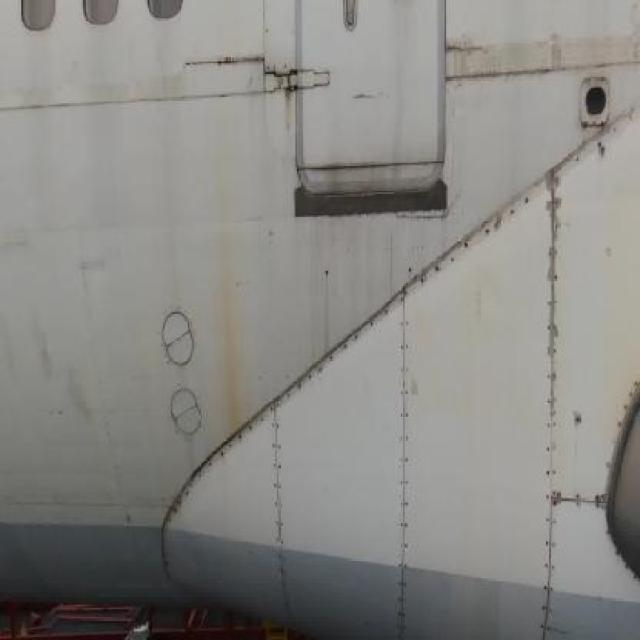Missing-Rivet: (540, 158, 566, 640), (419, 195, 532, 292), (296, 308, 390, 420), (392, 274, 412, 626), (179, 413, 263, 492), (266, 392, 292, 614), (569, 108, 640, 184), (569, 480, 603, 526)
Rust: (212, 196, 258, 439), (281, 65, 299, 147)
Scartch: (1, 297, 102, 448), (447, 23, 568, 97), (0, 212, 43, 263), (74, 248, 112, 295), (620, 2, 640, 66)
